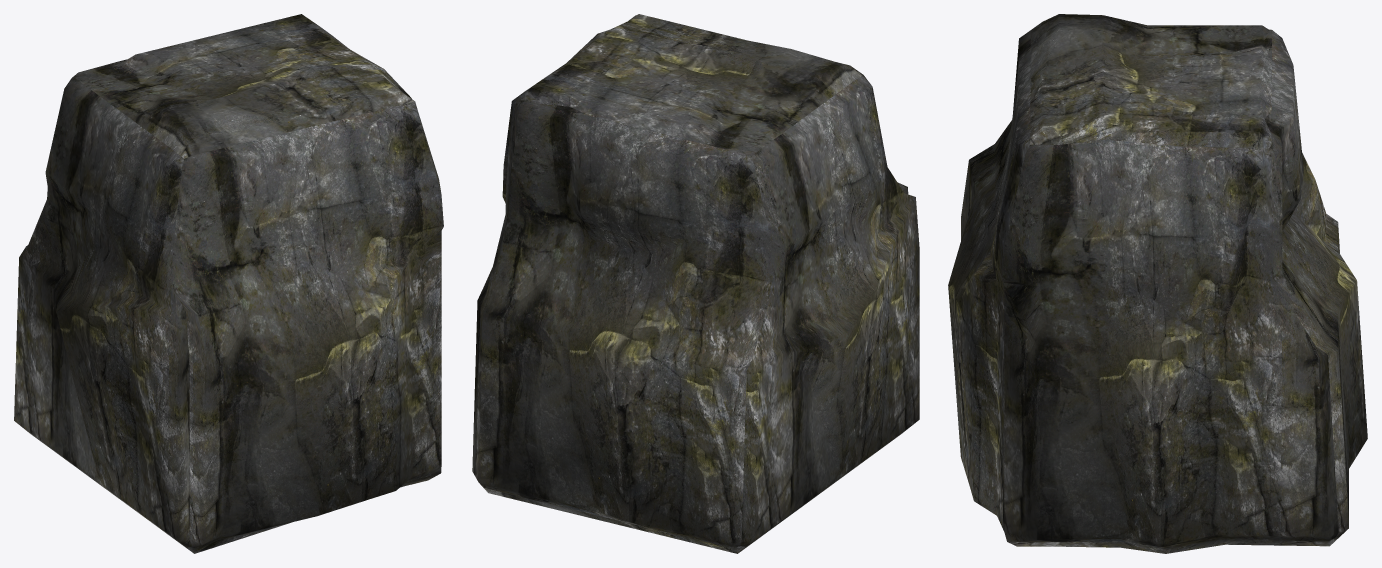
File: rock_forest_backdrop.DAE
3 views of the same model, side by side, from view 1: azimuth 30°, elevation 25°; view 2: azimuth 150°, elevation 25°; view 3: azimuth 270°, elevation 25° (orthographic). The views are drawn at different scales.
Visible parts, largest first — view 1: Box002; view 2: Box002; view 3: Box002.
Boxes of the visible parts, <box> form: Box002: <box>14,14,443,553</box>; Box002: <box>472,14,919,553</box>; Box002: <box>948,14,1367,553</box>.
Bounding box in the file's own units: 19.58 × 22.8 × 20.76.
